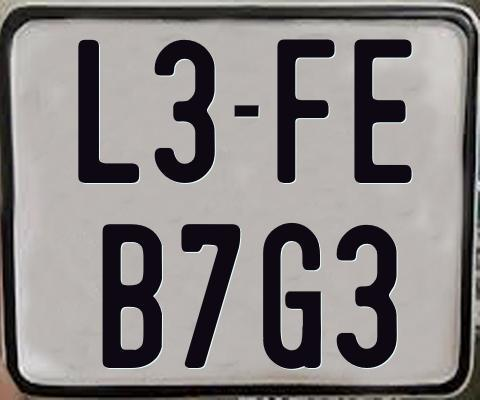3: (151, 38, 217, 181), (334, 224, 397, 372)
7: (178, 224, 241, 374)
B: (100, 223, 160, 373)
E: (351, 39, 413, 188)
F: (275, 36, 335, 184)
G: (263, 223, 321, 369)
L: (77, 38, 142, 184)
